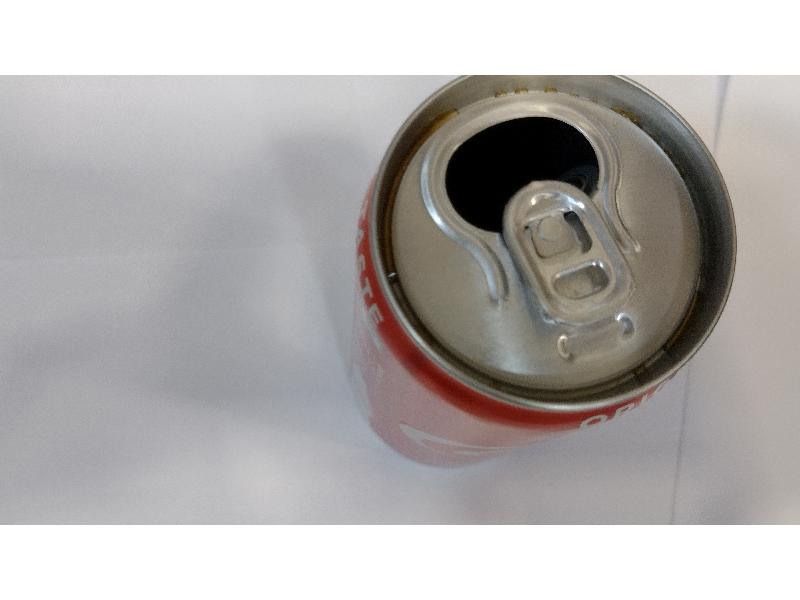can: (346, 77, 735, 476)
